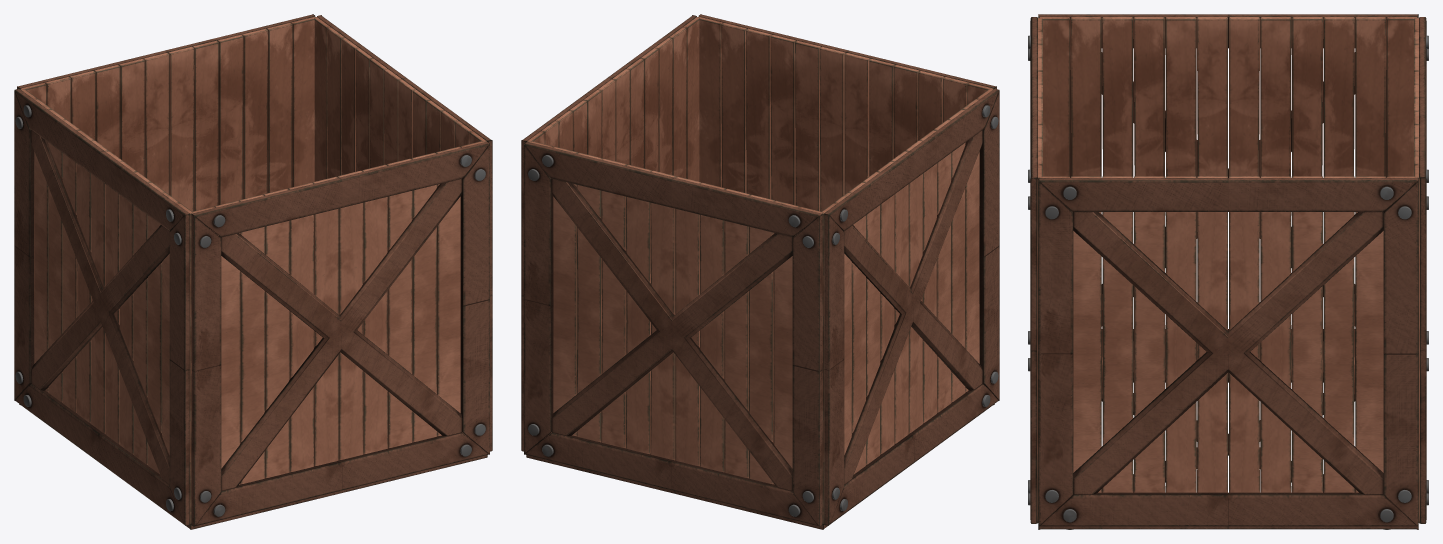
File: SM_WoodCrateOpen.fbx
The picture shows the model from 3 angles, left to right: view 1: azimuth 30°, elevation 25°; view 2: azimuth 150°, elevation 25°; view 3: azimuth 270°, elevation 25°; orthographic projection. The views are drawn at different scales.
Visible parts, largest first — view 1: BoxSides, BoxTops; view 2: BoxSides, BoxTops; view 3: BoxSides, BoxTops.
Boxes of the visible parts, box(x1,y1,x2,y2) form: BoxSides: box(14, 14, 492, 526); BoxTops: box(19, 404, 487, 529); BoxSides: box(521, 14, 999, 526); BoxTops: box(526, 404, 994, 529); BoxSides: box(1028, 14, 1428, 526); BoxTops: box(1038, 360, 1418, 529).
Size of the model in its own units: 86.78 by 86.78 by 84.75.
Materials: 1 (1 with a texture image).
